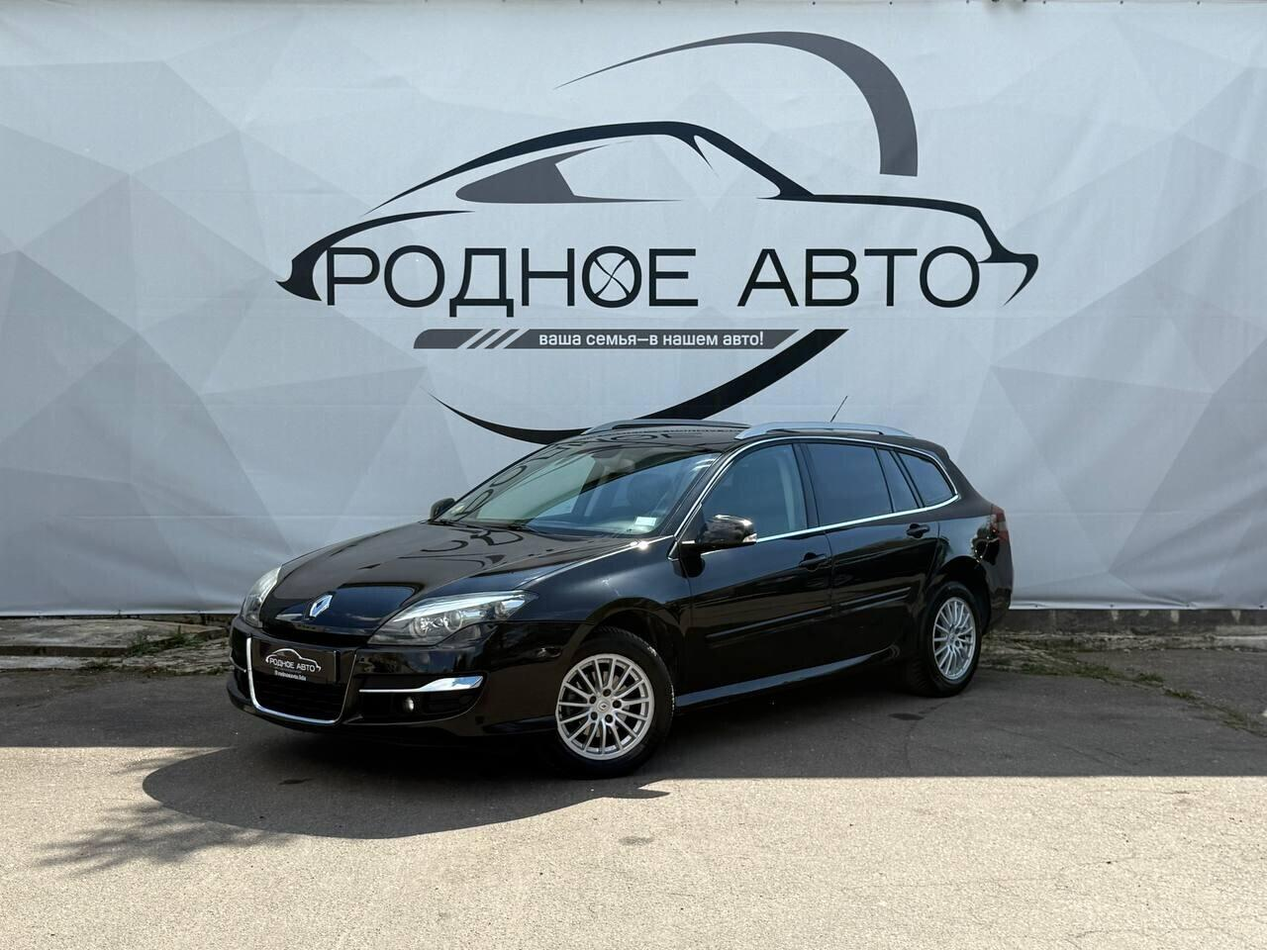Laguna_2010-2015: (220, 414, 1029, 771)
